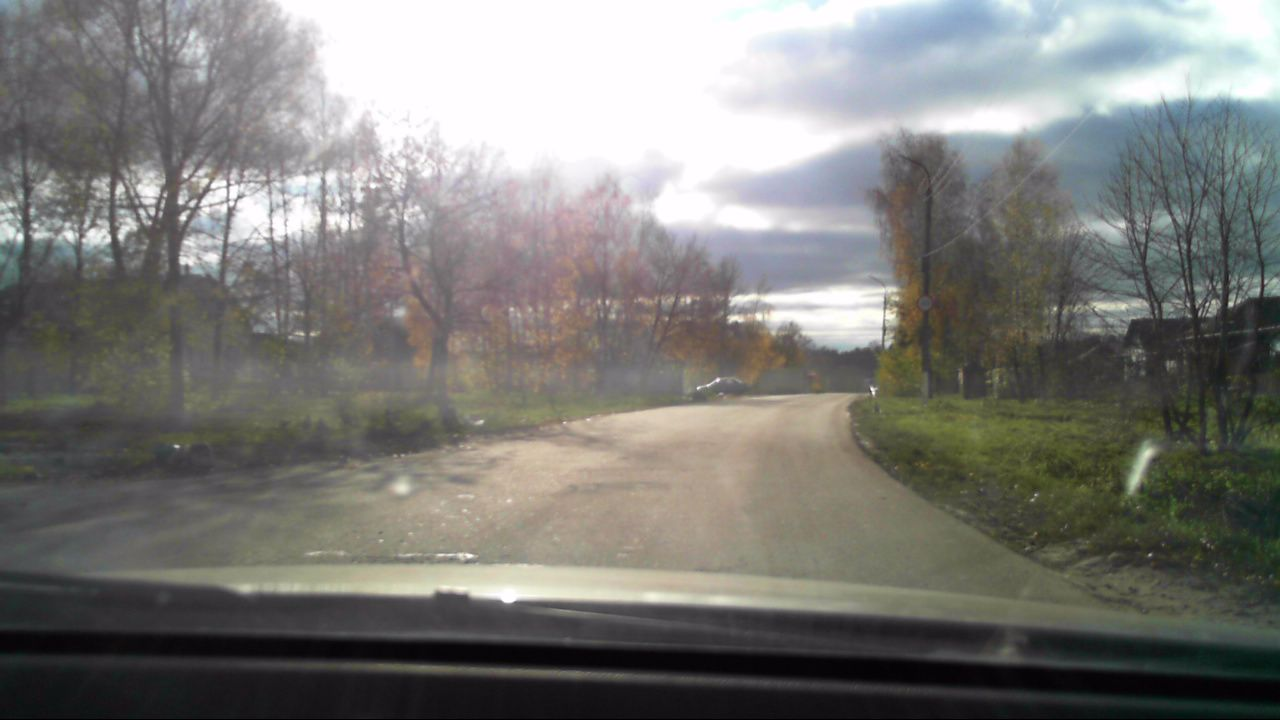speed_warning_40: (917, 294, 937, 312)
